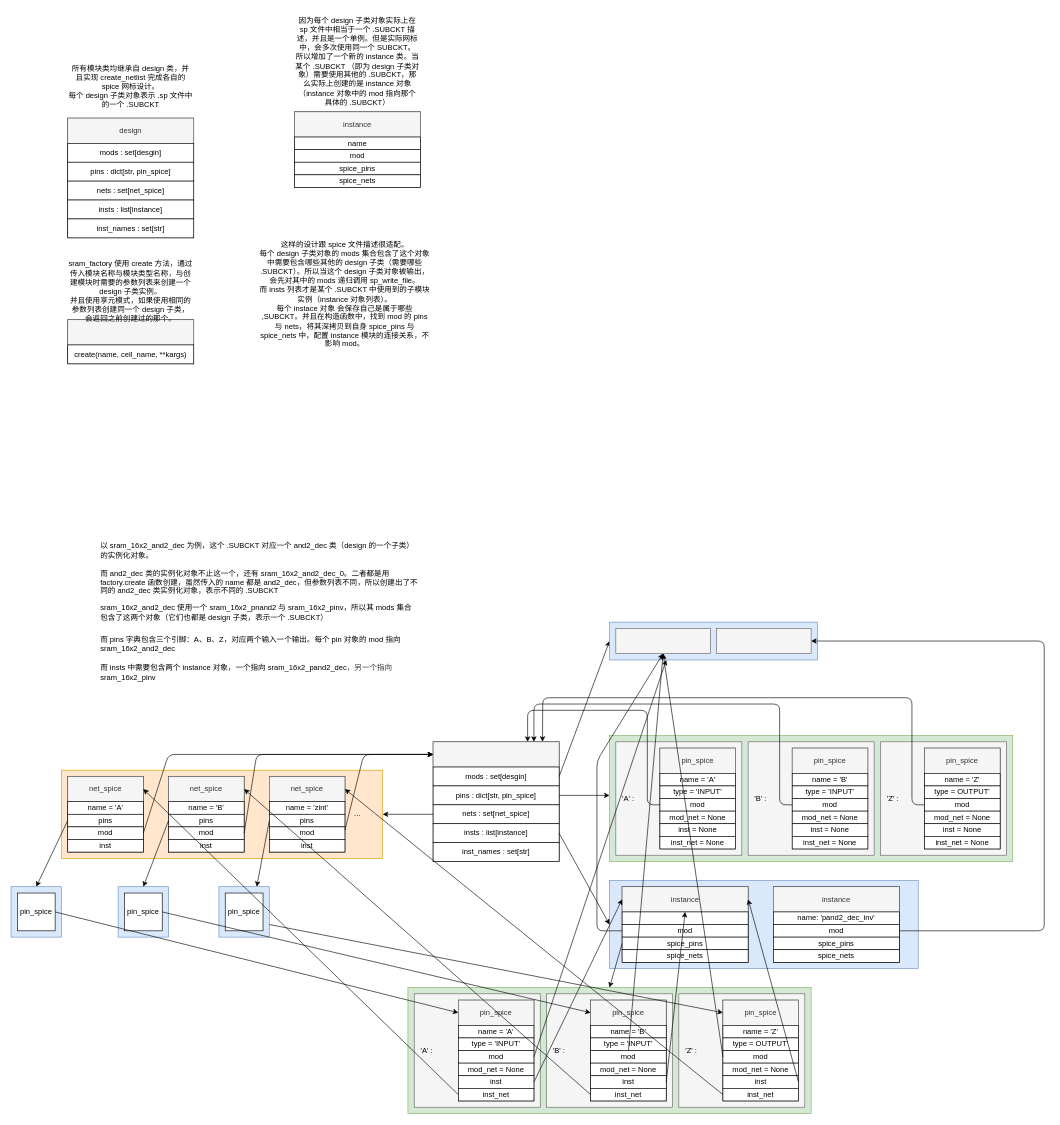
The diagram is 1060 pixels wide and 1125 high, and some of its shapes have lost their labels. Each missing label, with the box of its shape:
design ( sram_16x2_and2_dec ): (432, 741, 559, 767)
design ( sram_16x2_pand2_dec ): (615, 628, 710, 654)
design ( sram_16x2_pinv ): (716, 628, 811, 654)
name: 'pand2_dec_nand': (621, 911, 748, 925)
sram_factory: (67, 319, 194, 345)
